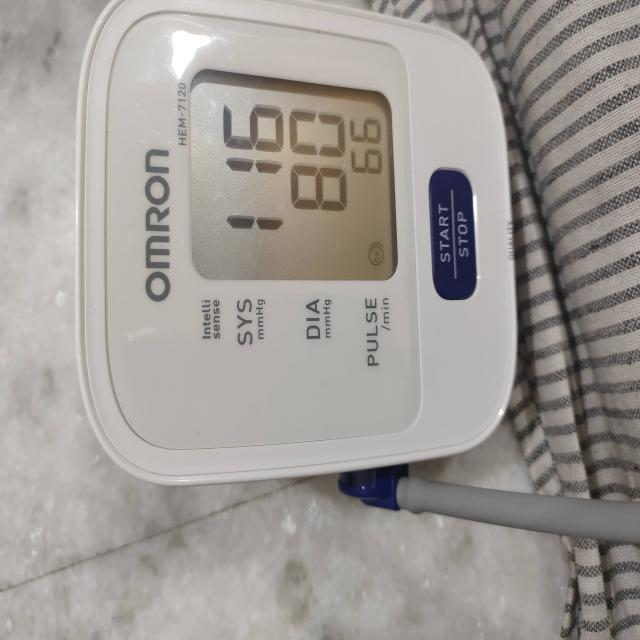bp: (72, 0, 519, 511)
